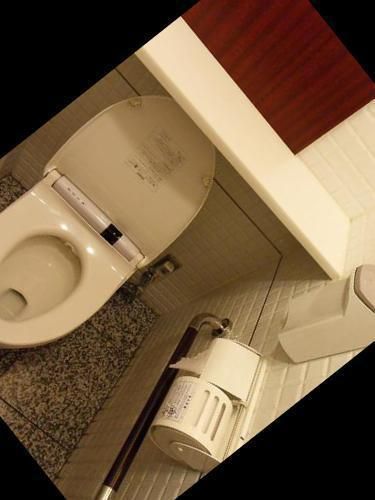Sanitario: (0, 59, 265, 400)
